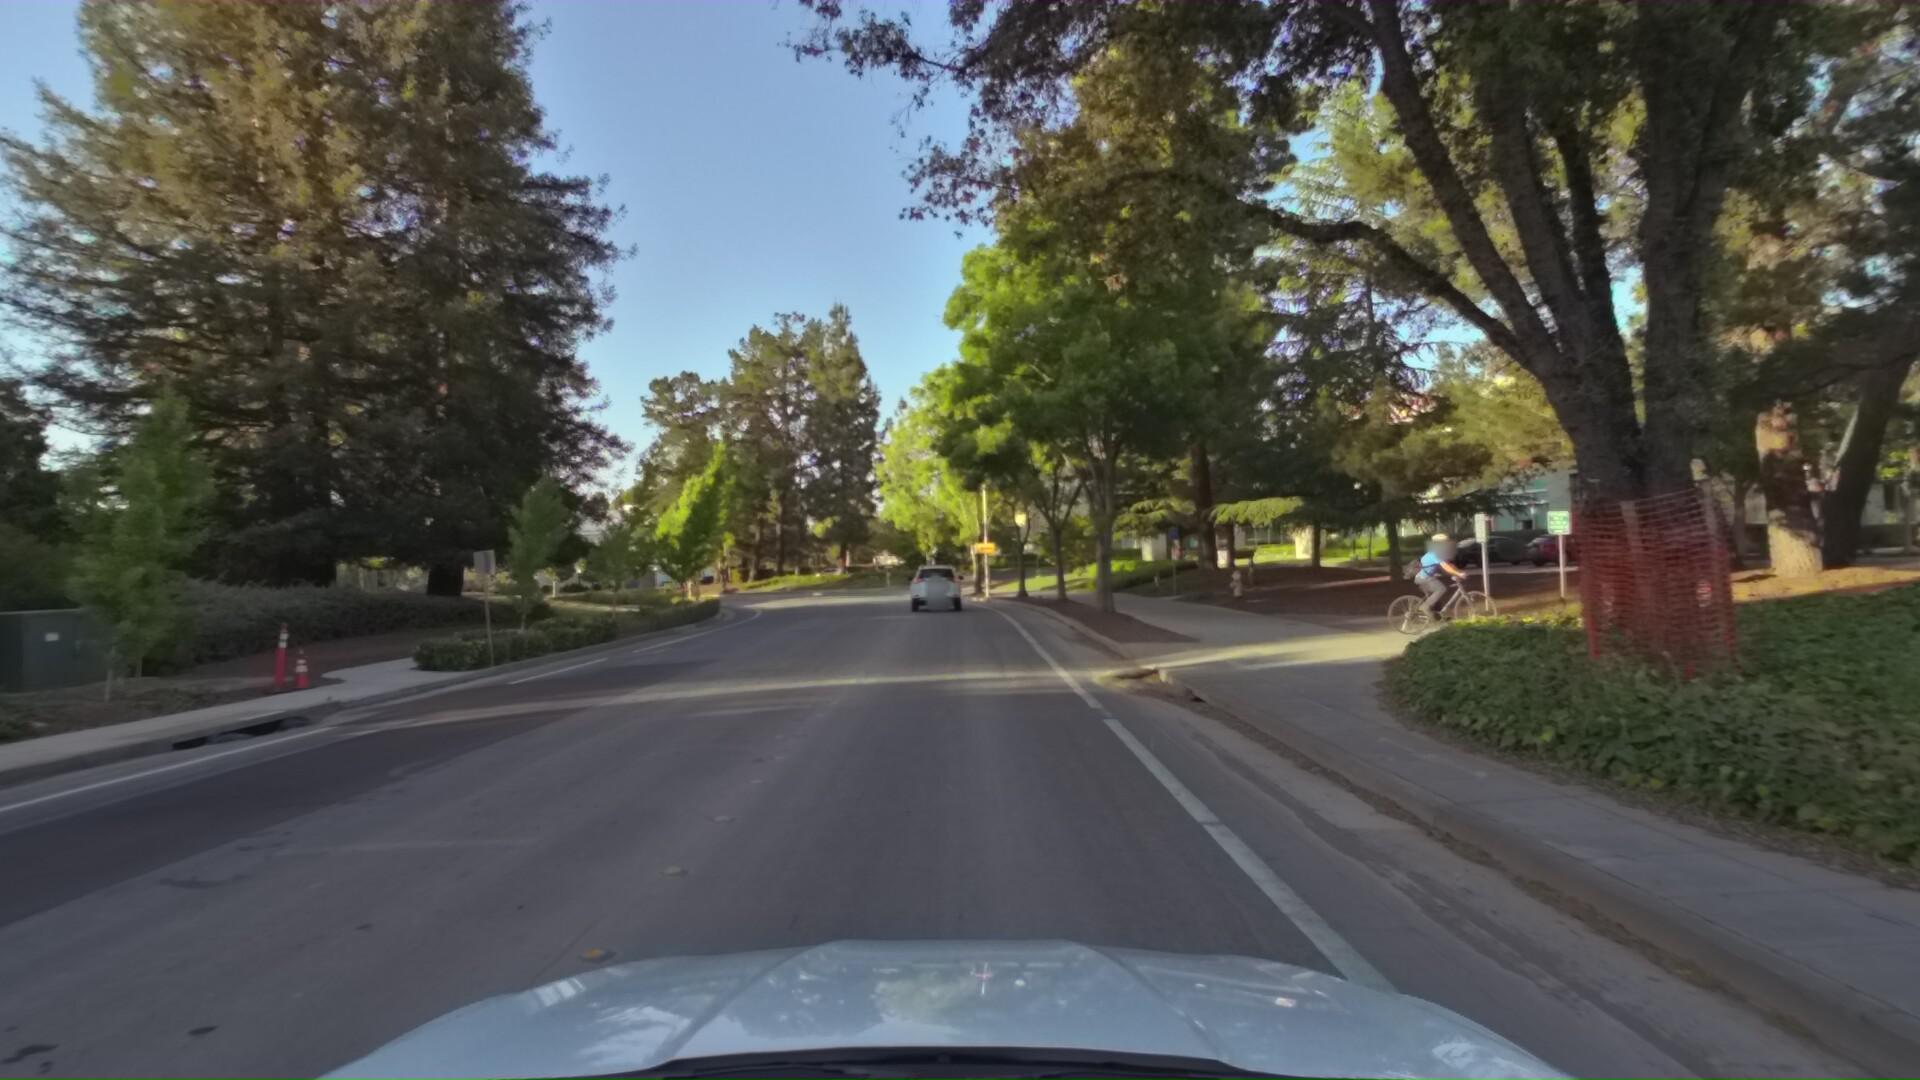bicycle: (1389, 524, 1539, 640), (655, 579, 676, 607)
car: (903, 558, 964, 613)
